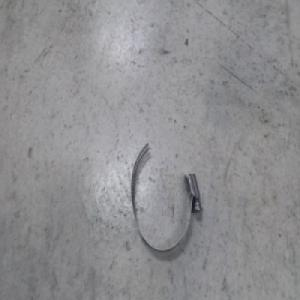AdjustableClamp: (130, 136, 202, 251)
